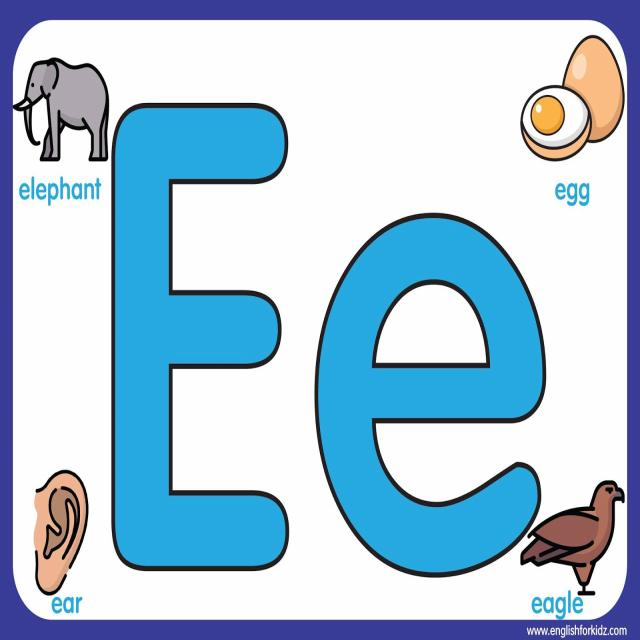E: (79, 89, 303, 581)
